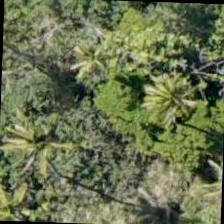Kelapa_Sawit: (124, 54, 217, 146), (0, 96, 89, 190), (0, 162, 55, 223)
